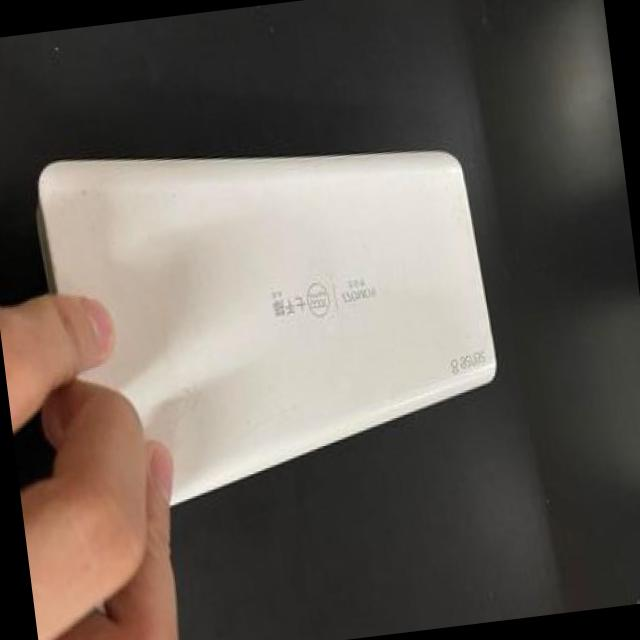power_bank: (4, 103, 512, 522)
